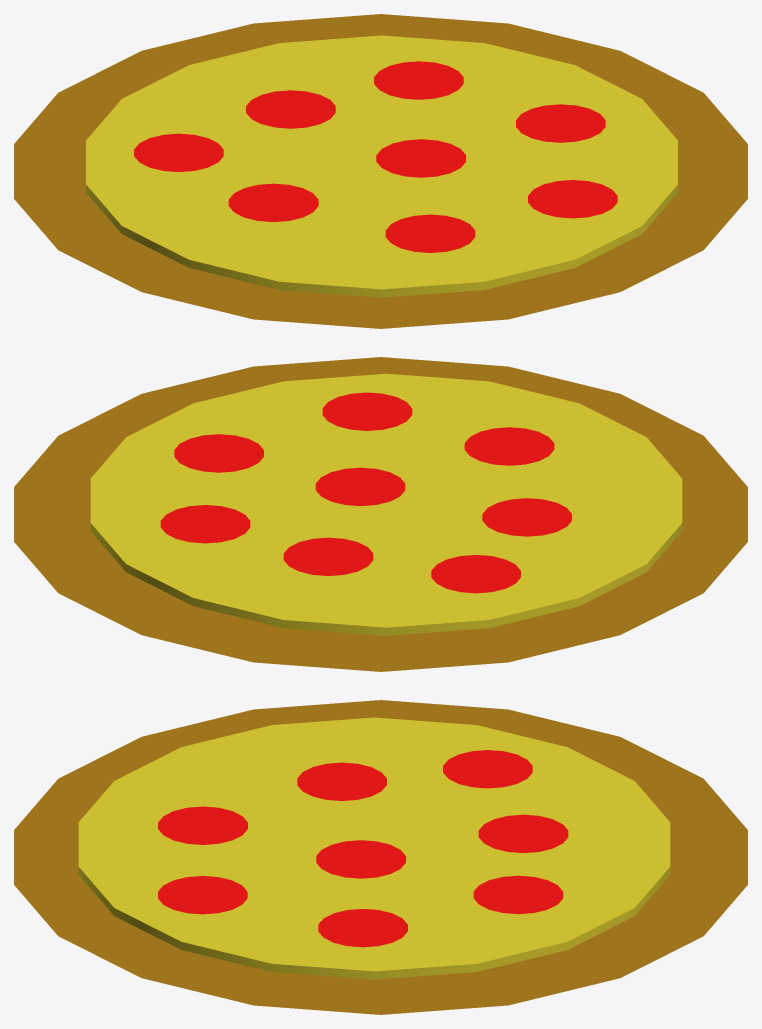
File: pizza.fbx
The picture shows the model from 3 angles, top to bottom: view 1: azimuth 30°, elevation 25°; view 2: azimuth 150°, elevation 25°; view 3: azimuth 270°, elevation 25°; orthographic projection.
Visible parts, largest first — view 1: Cylinder002, Cylinder001, Cylinder010, Cylinder006, Cylinder007, Cylinder003, Cylinder005, Cylinder008, Cylinder009, Cylinder004; view 2: Cylinder002, Cylinder001, Cylinder010, Cylinder005, Cylinder007, Cylinder004, Cylinder003, Cylinder008, Cylinder006, Cylinder009; view 3: Cylinder002, Cylinder001, Cylinder004, Cylinder003, Cylinder006, Cylinder010, Cylinder005, Cylinder008, Cylinder007, Cylinder009.
Boxes of the visible parts, x1=… form: Cylinder002: x1=86, y1=35, x2=677, y2=297; Cylinder001: x1=14, y1=14, x2=747, y2=328; Cylinder010: x1=385, y1=214, x2=475, y2=252; Cylinder006: x1=228, y1=183, x2=318, y2=221; Cylinder007: x1=376, y1=139, x2=465, y2=177; Cylinder003: x1=374, y1=61, x2=463, y2=99; Cylinder005: x1=528, y1=180, x2=617, y2=218; Cylinder008: x1=134, y1=133, x2=223, y2=171; Cylinder009: x1=516, y1=104, x2=605, y2=142; Cylinder004: x1=246, y1=90, x2=335, y2=128; Cylinder002: x1=90, y1=373, x2=682, y2=635; Cylinder001: x1=14, y1=357, x2=747, y2=671; Cylinder010: x1=464, y1=427, x2=554, y2=465; Cylinder005: x1=322, y1=392, x2=412, y2=430; Cylinder007: x1=315, y1=467, x2=405, y2=505; Cylinder004: x1=283, y1=537, x2=373, y2=575; Cylinder003: x1=160, y1=505, x2=250, y2=543; Cylinder008: x1=431, y1=555, x2=520, y2=593; Cylinder006: x1=482, y1=498, x2=571, y2=536; Cylinder009: x1=174, y1=434, x2=263, y2=472; Cylinder002: x1=78, y1=717, x2=670, y2=979; Cylinder001: x1=14, y1=700, x2=747, y2=1014; Cylinder004: x1=478, y1=814, x2=568, y2=852; Cylinder003: x1=473, y1=875, x2=563, y2=914; Cylinder006: x1=297, y1=762, x2=386, y2=800; Cylinder010: x1=158, y1=806, x2=247, y2=844; Cylinder005: x1=158, y1=876, x2=247, y2=914; Cylinder008: x1=443, y1=750, x2=532, y2=788; Cylinder007: x1=316, y1=840, x2=405, y2=878; Cylinder009: x1=318, y1=909, x2=407, y2=947.
Bounding box in the file's own units: 30.23 × 0.7044 × 29.77.
